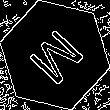M_SE: (22, 21, 88, 89)
